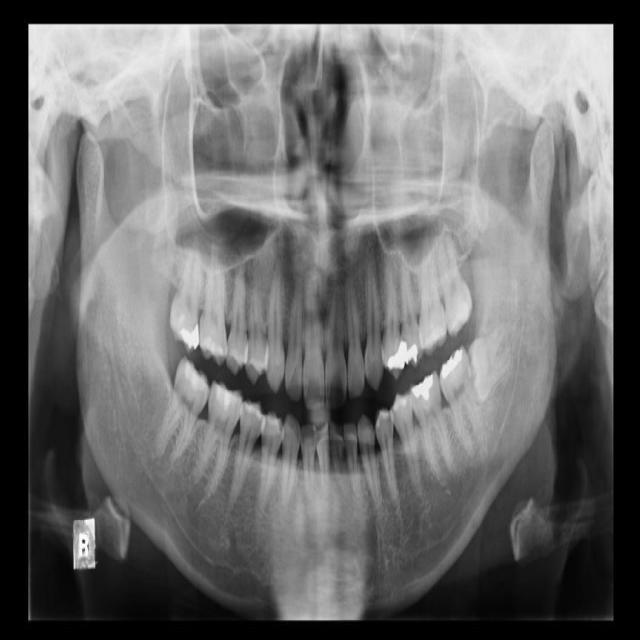52: (165, 352, 224, 414), (427, 342, 478, 398), (437, 281, 484, 341), (401, 369, 452, 418), (201, 377, 251, 423), (169, 294, 200, 354), (197, 318, 229, 368), (417, 312, 450, 357), (385, 388, 418, 431), (379, 336, 408, 382), (399, 323, 425, 368), (373, 406, 396, 441)
73: (622, 612, 630, 620)
BioHorizons Implant: (431, 215, 478, 340)
Biomet 3i Implant: (465, 321, 514, 404)
Blue Sky Bio Implant: (431, 342, 491, 462)
Caries: (168, 228, 204, 354)
Implant: (152, 352, 219, 467)
